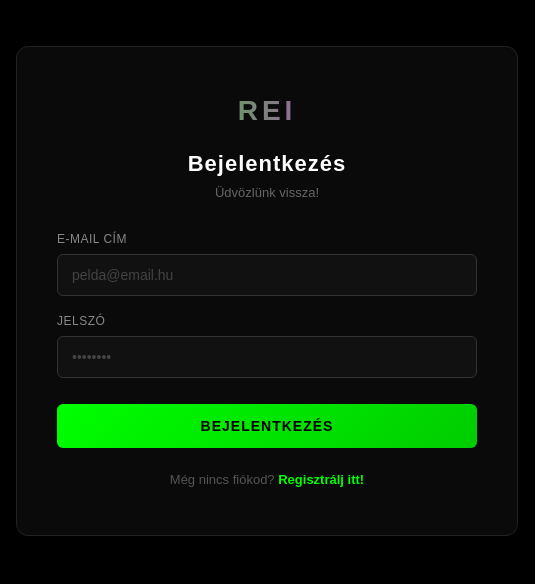
Scenario: <Bejelentkezes /> › hálózati hiba esetén hibaüzenet
In the field with placeholder "pelda@email.hu": (267, 275) top-left (57, 254), bottom-right (477, 296), type "a@b.hu"
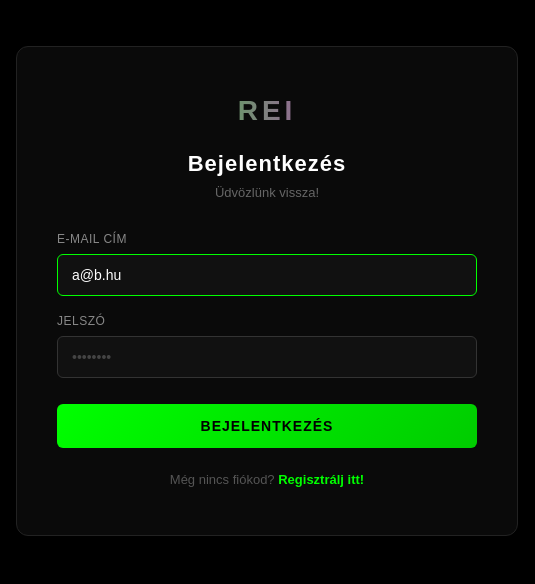
In the password field with placeholder "••••••••": (267, 357) top-left (57, 336), bottom-right (477, 378), type "titok123"
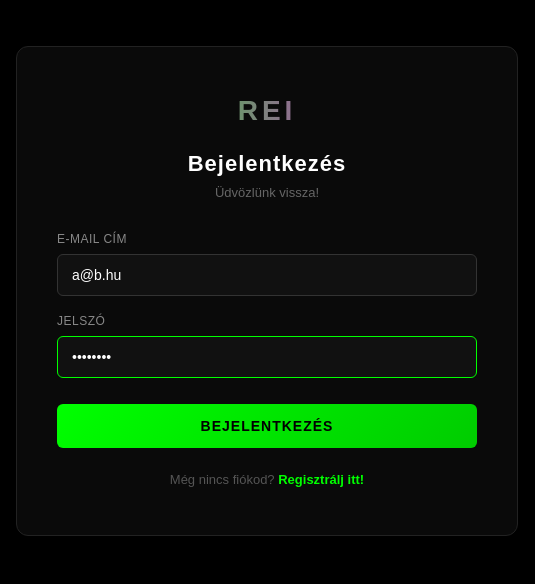
Click the button "Bejelentkezés": (267, 426) top-left (57, 404), bottom-right (477, 448)
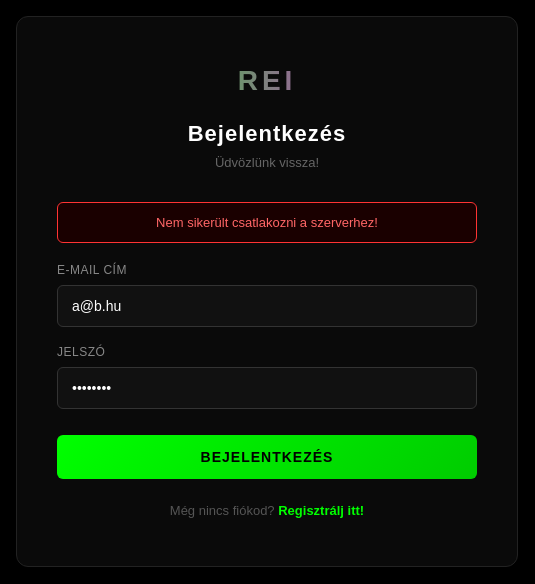
Result: the text "Nem sikerült csatlakozni a szerverhez!" is shown at top-left (57, 202), bottom-right (477, 242)
